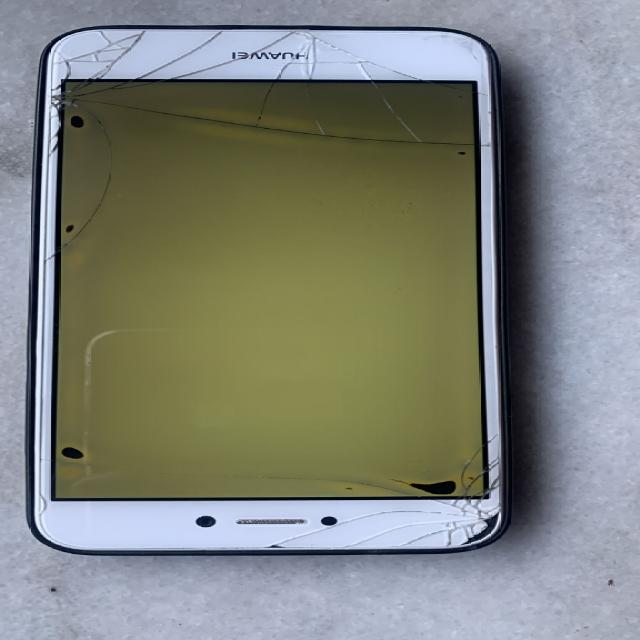Crack: (162, 26, 508, 155), (38, 24, 162, 267), (275, 447, 513, 550)
